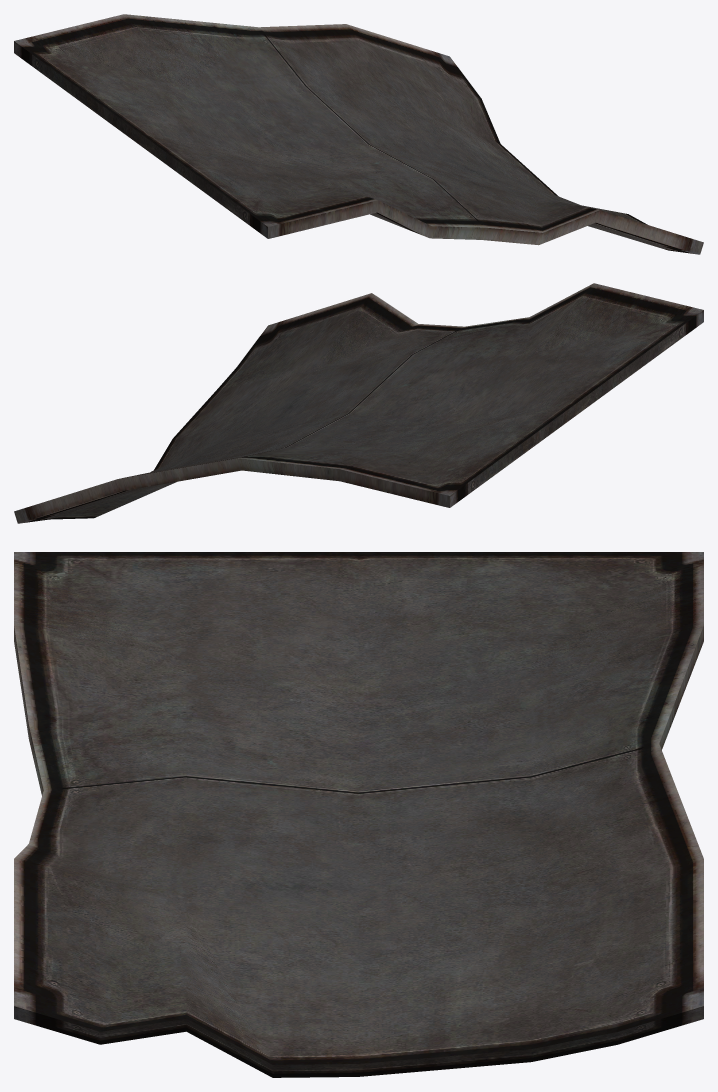
Rendered from pptiling_damaged03.dae.
3 renders of one model, top to bottom at view 1: azimuth 30°, elevation 25°; view 2: azimuth 150°, elevation 25°; view 3: azimuth 270°, elevation 25°, orthographic. The views are drawn at different scales.
Visible parts, largest first — view 1: pCube2; view 2: pCube2; view 3: pCube2.
Part boxes in pixels (left/top/right/bottom): pCube2: left=14, top=14, right=703, bottom=254; pCube2: left=14, top=283, right=703, bottom=523; pCube2: left=14, top=552, right=703, bottom=1077.
Bounding box in the file's own units: 1.98 × 0.7902 × 2.
